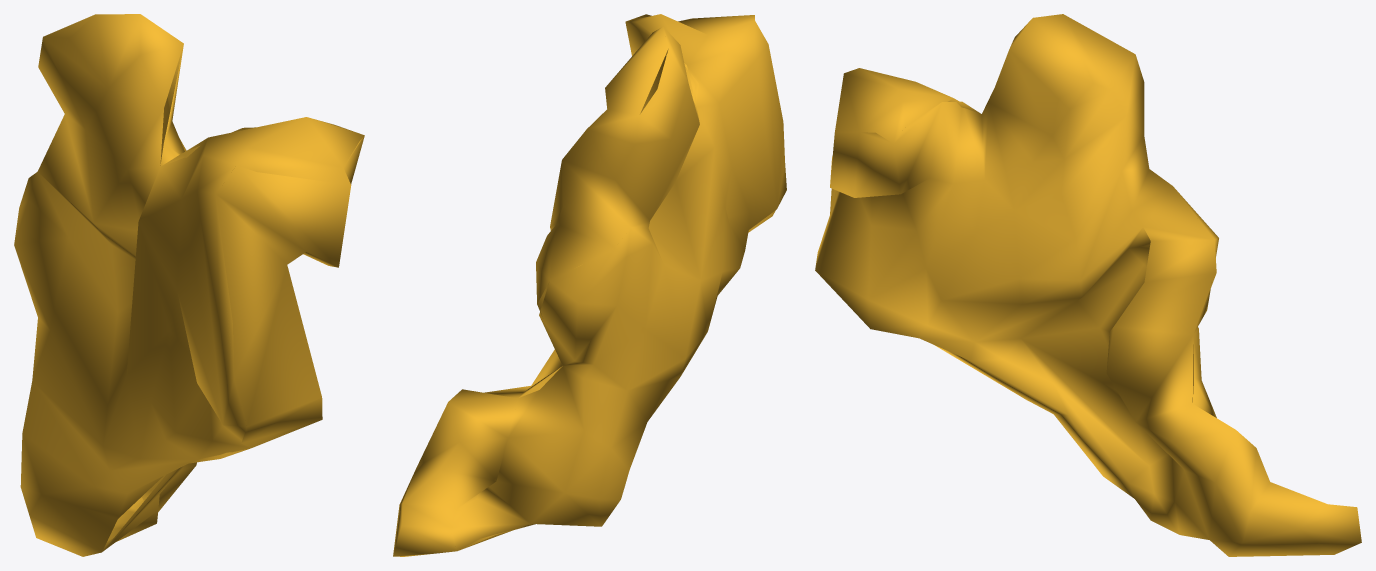
Rendered from nervoso-cingulate-gyrus-and-sulcus-posterior-dorsal-part-l.glb.
The picture shows the model from 3 angles, left to right: view 1: azimuth 30°, elevation 25°; view 2: azimuth 150°, elevation 25°; view 3: azimuth 270°, elevation 25°; orthographic projection. The views are drawn at different scales.
Visible parts, largest first — view 1: Cingulate gyrus and sulcus (Posterior dorsal part).l; view 2: Cingulate gyrus and sulcus (Posterior dorsal part).l; view 3: Cingulate gyrus and sulcus (Posterior dorsal part).l.
Part boxes in pixels (bbox=[...]): Cingulate gyrus and sulcus (Posterior dorsal part).l: bbox=[14, 14, 364, 556]; Cingulate gyrus and sulcus (Posterior dorsal part).l: bbox=[393, 14, 786, 556]; Cingulate gyrus and sulcus (Posterior dorsal part).l: bbox=[815, 14, 1361, 556].
Bounding box in the file's own units: 0.0131 × 0.033 × 0.034.
